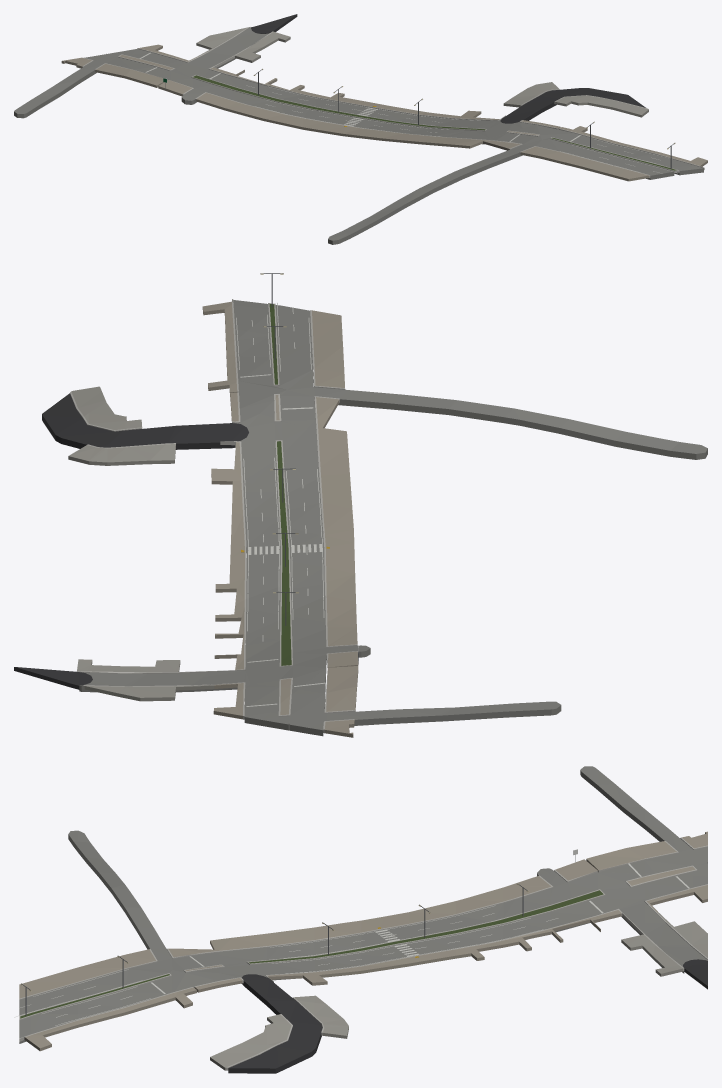
3 views of the same model, one above another, from view 1: azimuth 30°, elevation 25°; view 2: azimuth 150°, elevation 25°; view 3: azimuth 270°, elevation 25° (orthographic). The views are drawn at different scales.
Bounding box in the file's own units: 146 × 16.15 × 147.
